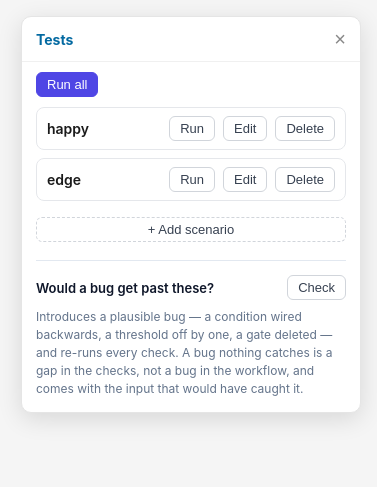
Test: TestsPanel › runs all scenarios and shows the pass/fail summary and per-assertion results
Click the button "Run all" at x=67, y=84, box top-left (36, 72), bottom-right (98, 97)
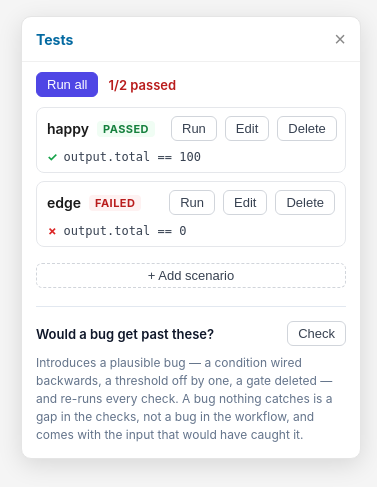
Now the text "1/2 passed" is shown, box top-left (108, 76), bottom-right (176, 92)
Now the text "passed" is shown, box top-left (97, 120), bottom-right (155, 136)
Now the text "failed" is shown, box top-left (89, 194), bottom-right (141, 210)
